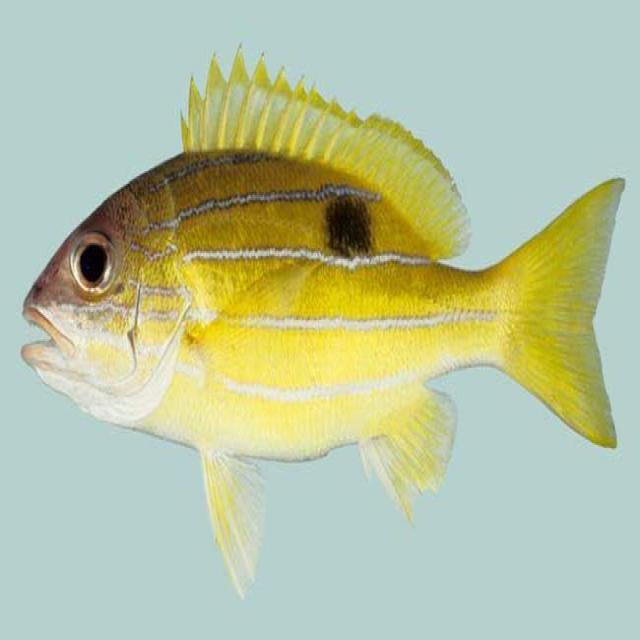ikan: (20, 41, 626, 598)
